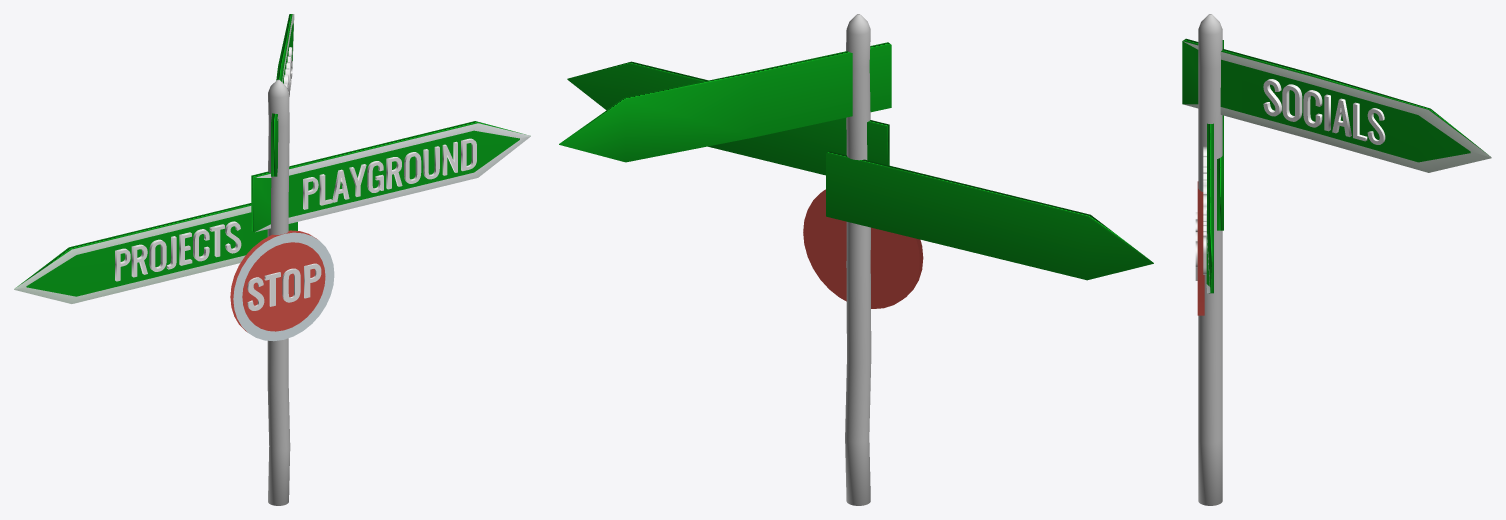
File: signBoard.glb
3 renders of one model, left to right at view 1: azimuth 30°, elevation 25°; view 2: azimuth 150°, elevation 25°; view 3: azimuth 270°, elevation 25°, orthographic. The views are drawn at different scales.
Parts seen in each view (by area): view 1: Cube, Cube.002, Cylinder.001, Cylinder, Text.001, Text.002, Text, Cube.001; view 2: Cube.002, Cube.001, Cylinder, Cube, Cylinder.001; view 3: Cube.001, Cylinder, Text.003, Cube, Cylinder.001, Cube.002, Text.001.
Boxes of the visible parts, left/top/right/bottom form: Cube: left=251, top=121, right=530, bottom=232; Cube.002: left=14, top=203, right=297, bottom=303; Cylinder.001: left=230, top=230, right=334, bottom=341; Cylinder: left=267, top=79, right=290, bottom=505; Text.001: left=303, top=138, right=476, bottom=209; Text.002: left=115, top=221, right=241, bottom=281; Text: left=247, top=263, right=321, bottom=310; Cube.001: left=271, top=14, right=294, bottom=176; Cube.002: left=826, top=151, right=1153, bottom=280; Cube.001: left=559, top=42, right=891, bottom=162; Cylinder: left=845, top=14, right=871, bottom=505; Cube: left=567, top=61, right=889, bottom=175; Cylinder.001: left=803, top=189, right=923, bottom=308; Cube.001: left=1182, top=38, right=1491, bottom=172; Cylinder: left=1198, top=14, right=1222, bottom=505; Text.003: left=1263, top=79, right=1385, bottom=144; Cube: left=1206, top=123, right=1213, bottom=293; Cylinder.001: left=1197, top=181, right=1204, bottom=315; Cube.002: left=1217, top=40, right=1223, bottom=230; Text.001: left=1203, top=146, right=1206, bottom=274.
Size of the model in its own units: 19.63 by 15.41 by 8.89.
